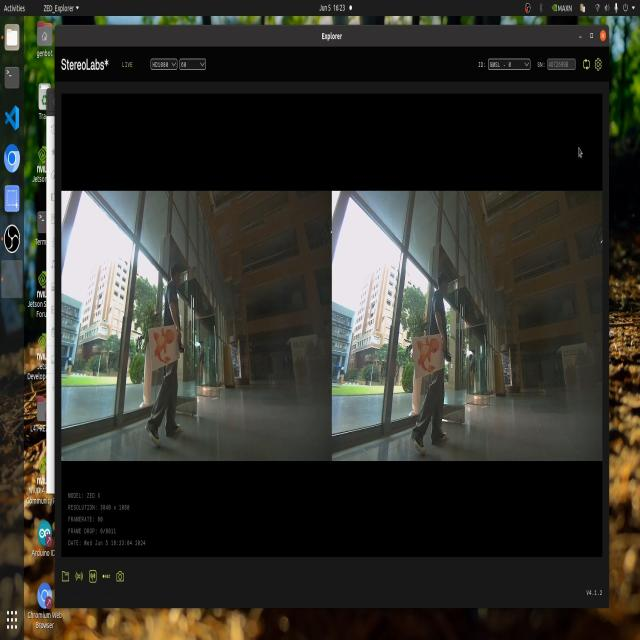red: (404, 335, 446, 378), (145, 326, 182, 366)
